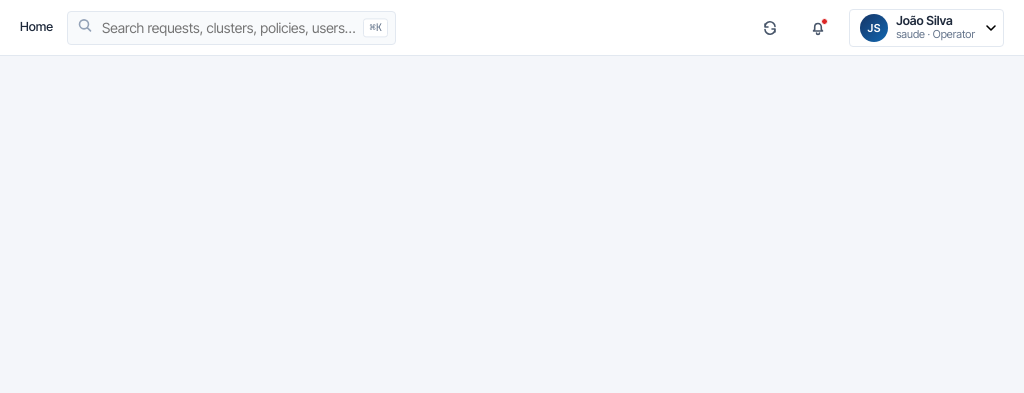
Test: Topbar › opens the menu with Switch user and Switch role sections
The image size is (1024, 393).
Click the button with class "role-switch".
click(927, 28)  # box left=849, top=8, right=1004, bottom=46
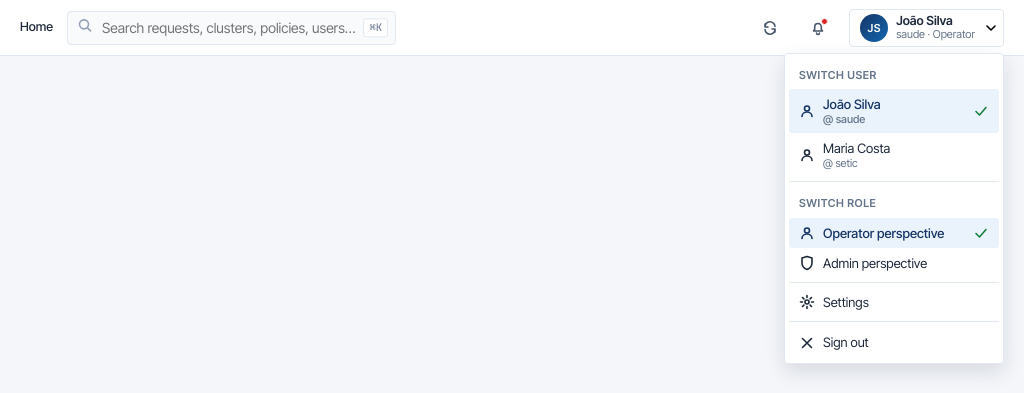
Expected: the text "Switch user" is shown, left=799, top=68, right=877, bottom=82
Expected: the text "Switch role" is shown, left=799, top=196, right=876, bottom=210
Expected: the text "Operator perspective" is shown, left=823, top=225, right=944, bottom=241
